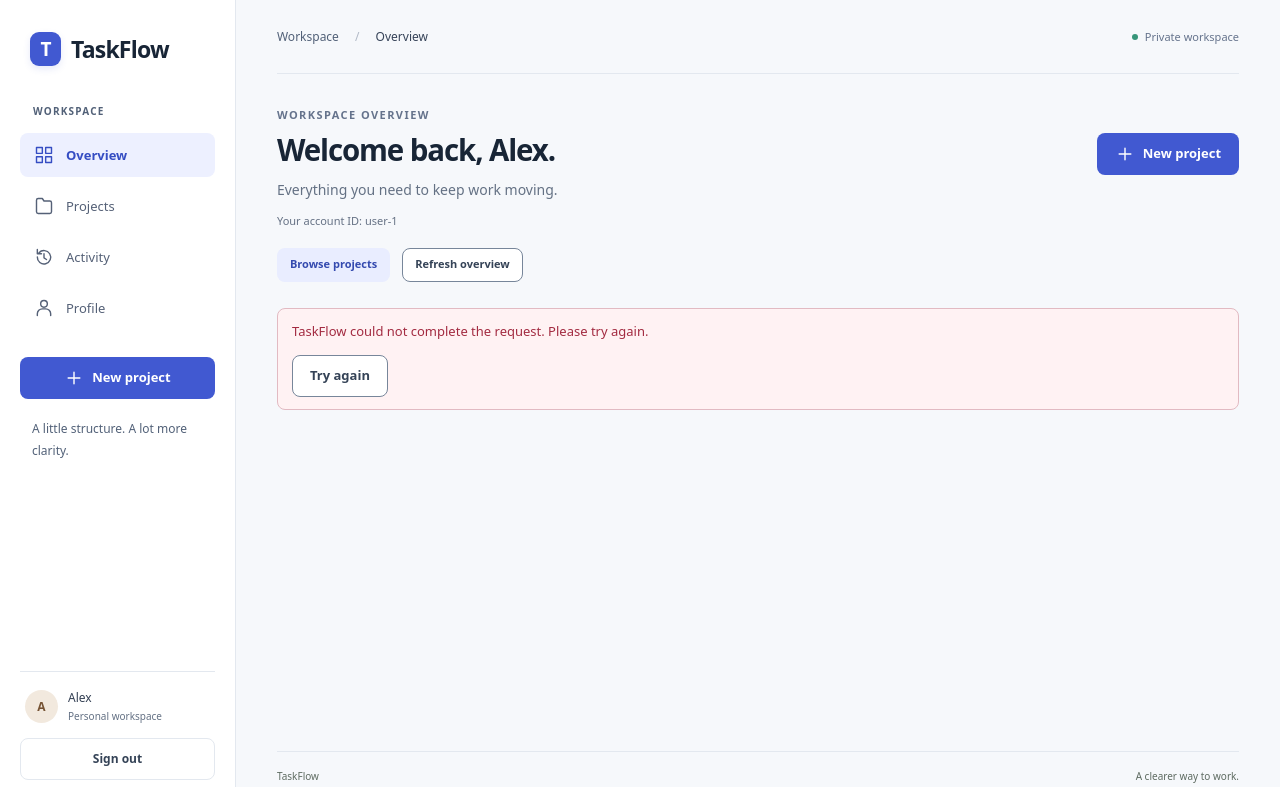
Dashboard overview › recovers a safe error and refreshes totals after changes and navigation
This screenshot has width=1280, height=787.
Expected: the message "TaskFlow could not complete the request. Please try again. Try again" is shown, [277,308,1239,410]
Expected: the text "Tasks" is not shown
Click the button "Try again".
click(340, 376)  # box [292,355,388,397]
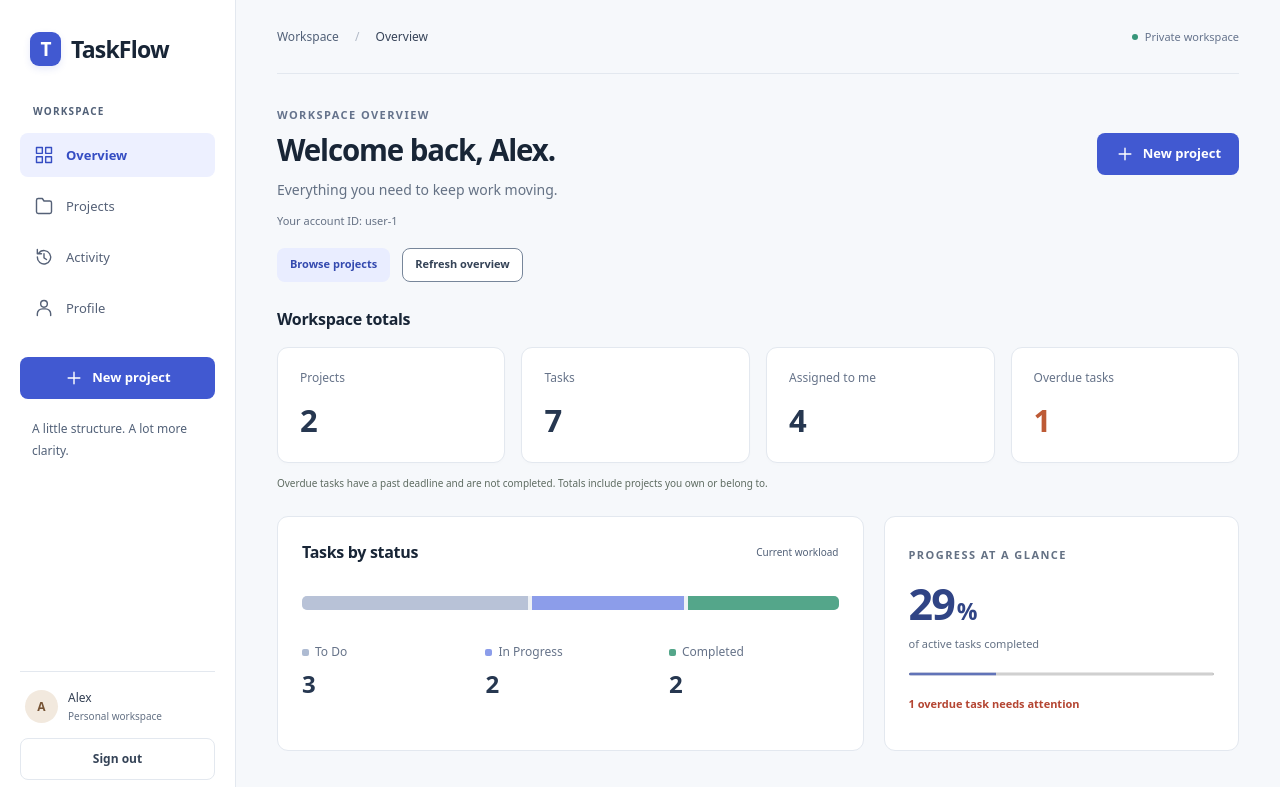
Expected: the heading "Workspace totals" is shown, [277,308,410,330]
Expected: the text "7" is shown, [544,399,561,441]
Click the button "Refresh overview".
click(463, 265)  # box [402,248,523,282]
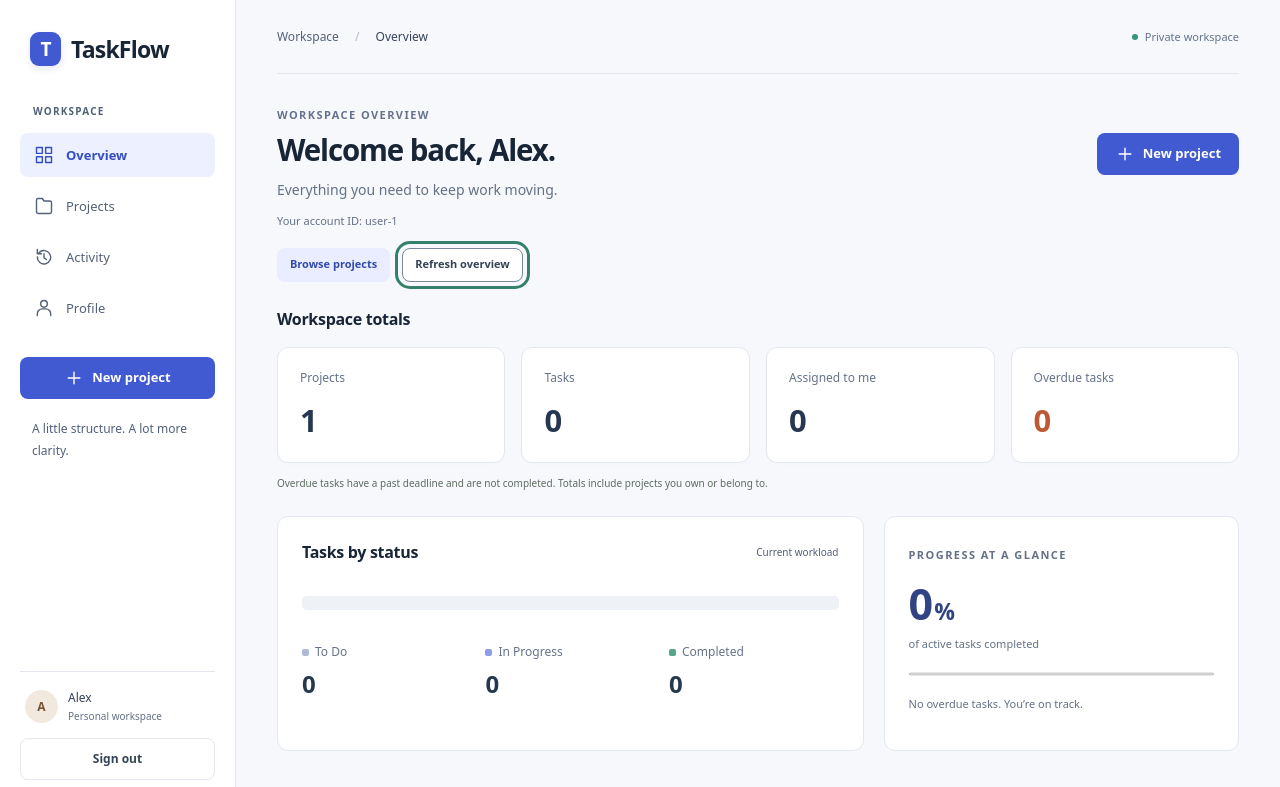
Expected: the 1st text "0" is shown, [544,399,561,441]
Click the link "Browse projects".
click(334, 265)  # box [277,248,390,282]
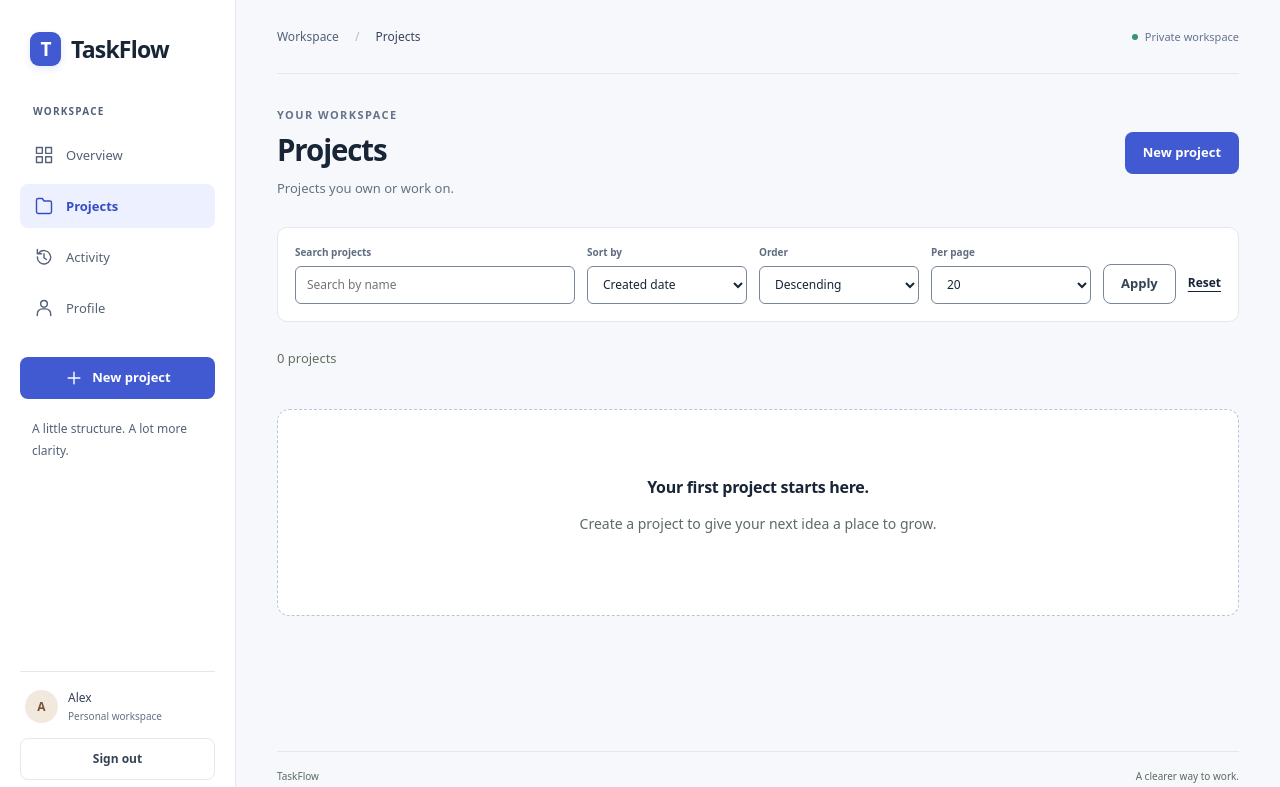
Expected: the heading "Your first project starts here." is shown, [647,476,869,498]
Click the link "Overview".
click(78, 155)  # box [34,145,123,165]
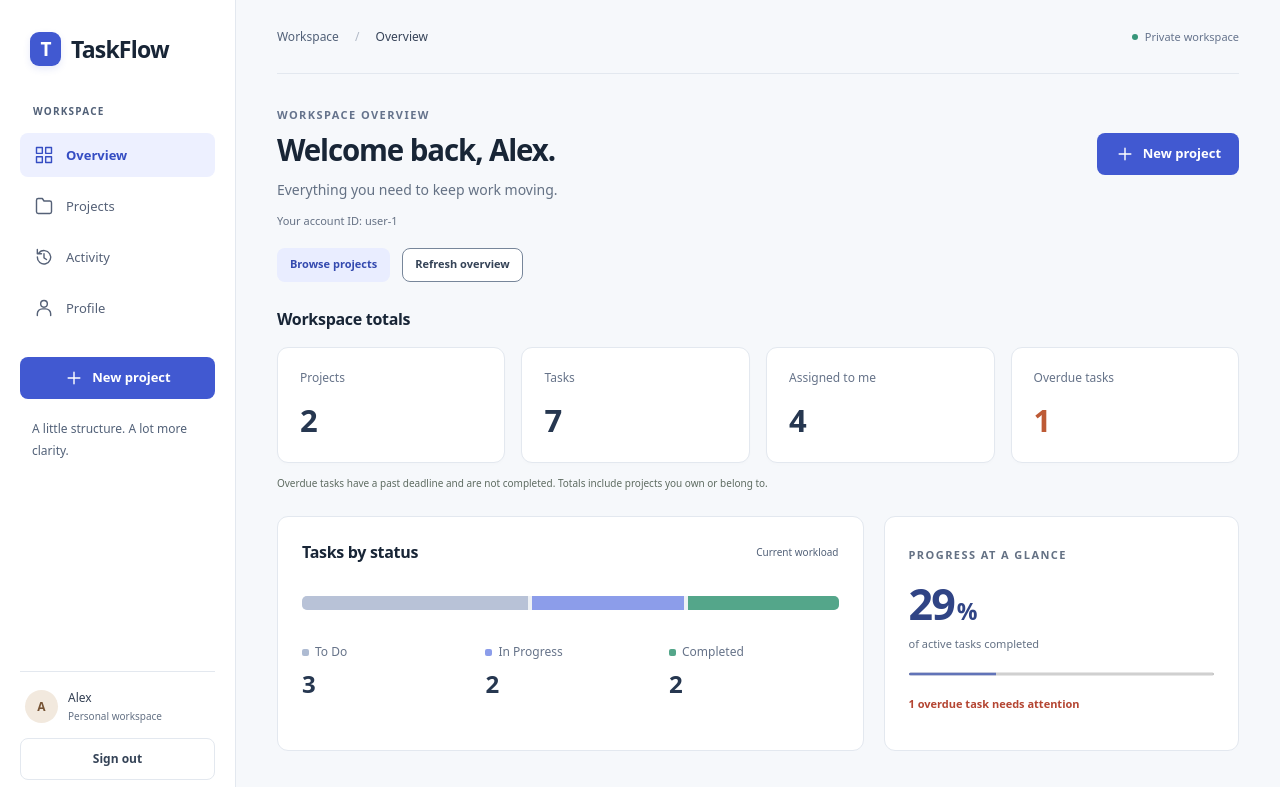
Expected: the heading "Workspace totals" is shown, [277,308,410,330]
Expected: the text "7" is shown, [544,399,561,441]
